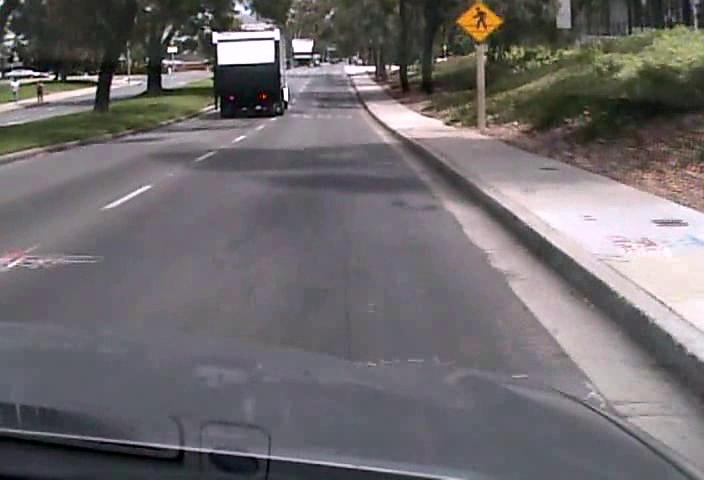pedestrianCrossing: (455, 0, 503, 42)
